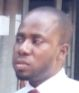without_facemask: (8, 50, 45, 82)
